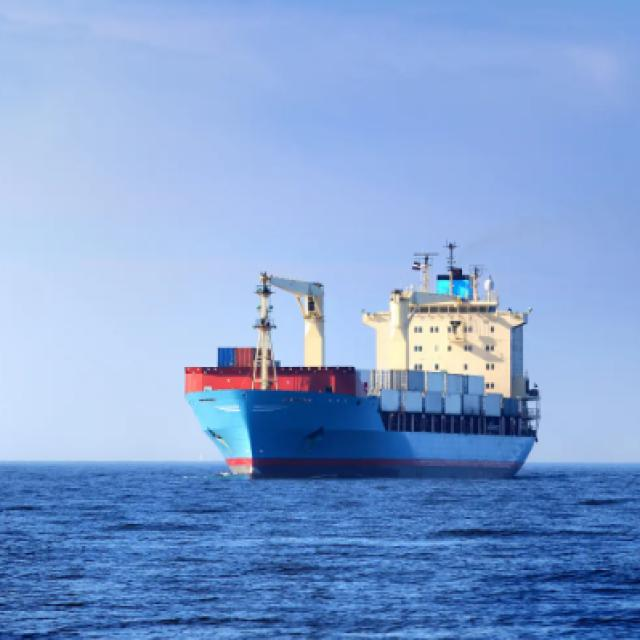cargoship: (157, 253, 544, 490)
